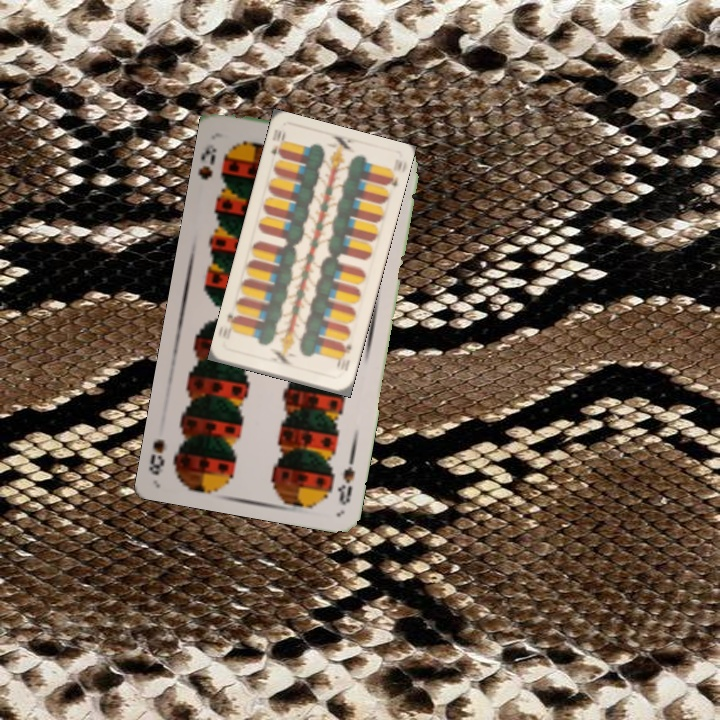E10: (267, 125, 288, 161), (336, 339, 354, 374)
S8: (332, 449, 357, 508), (196, 140, 219, 183)
